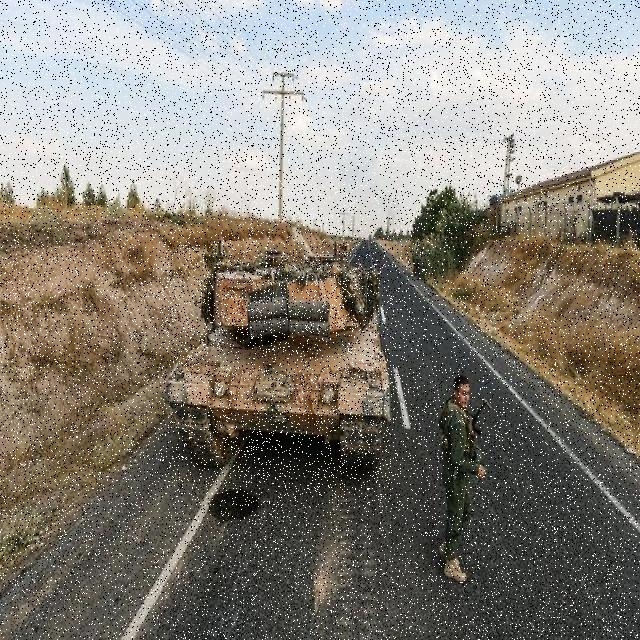MIL_MBT: (160, 241, 391, 505)
